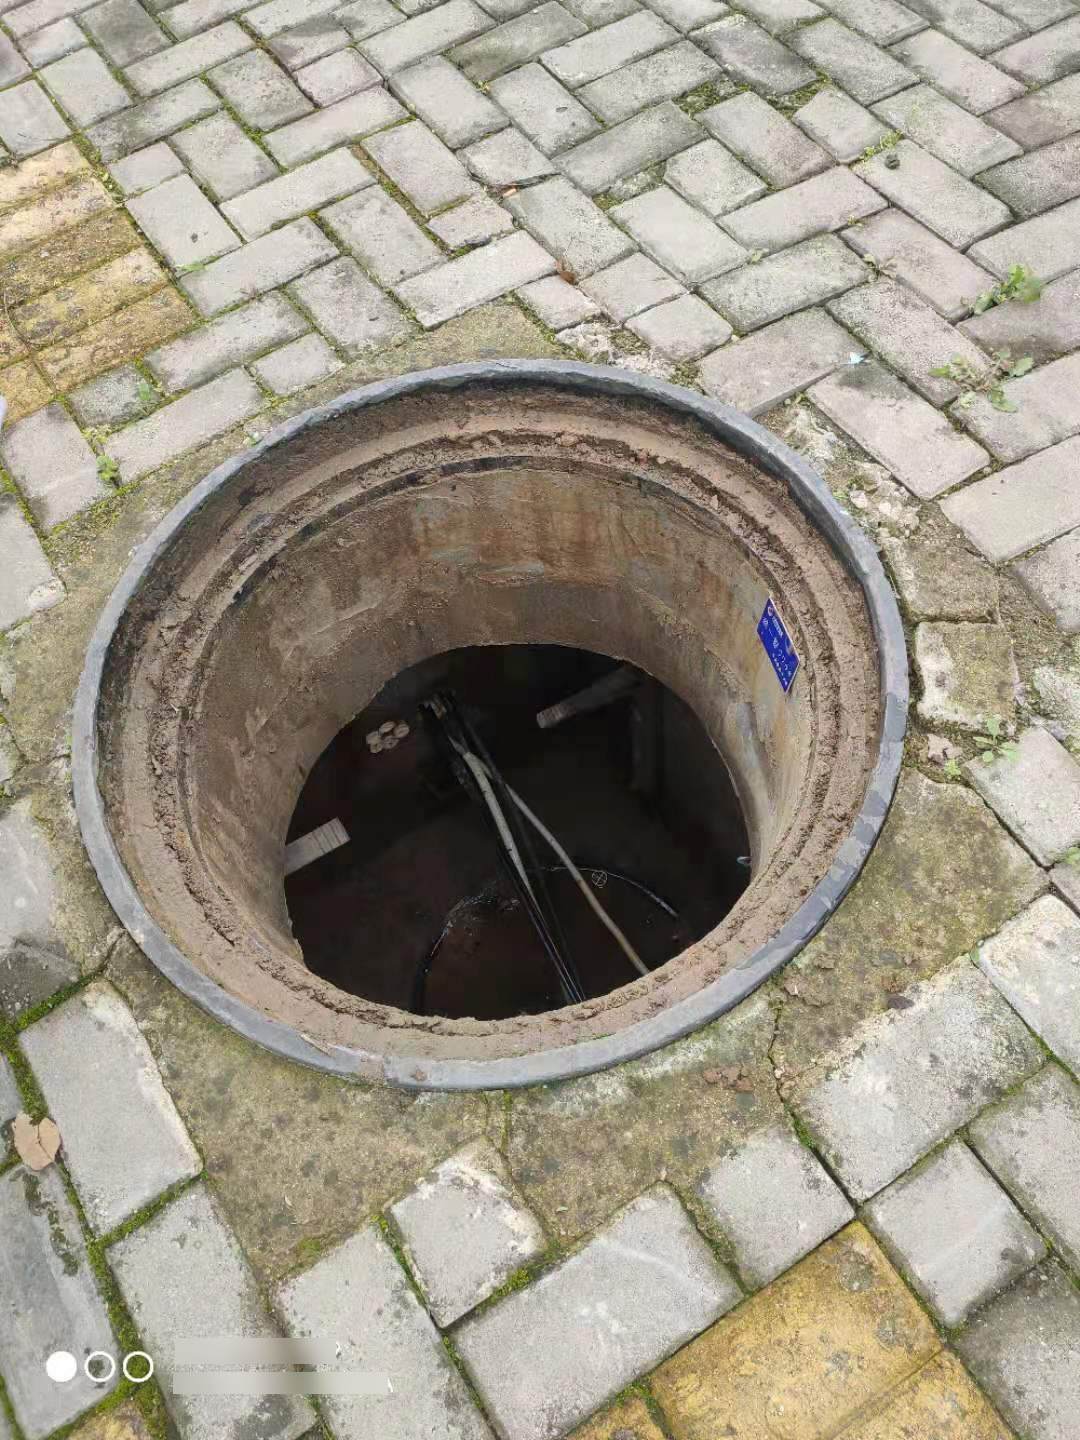lose: (64, 355, 913, 1100)
